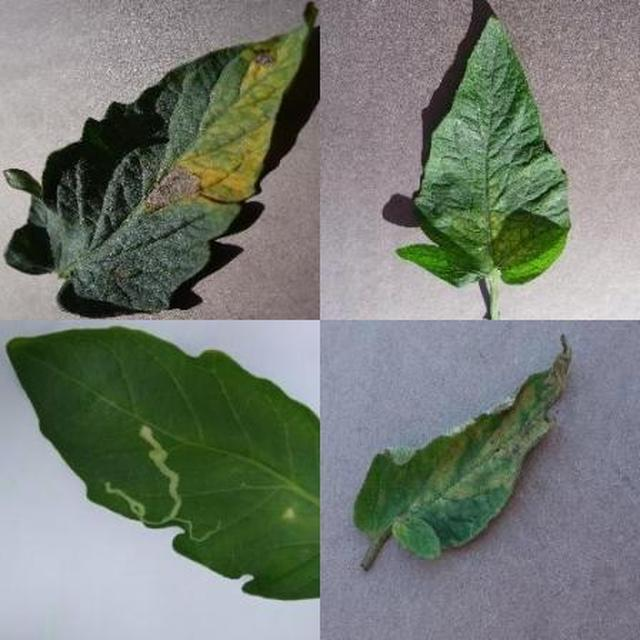Early Blight Leaf: (230, 213, 640, 640)
